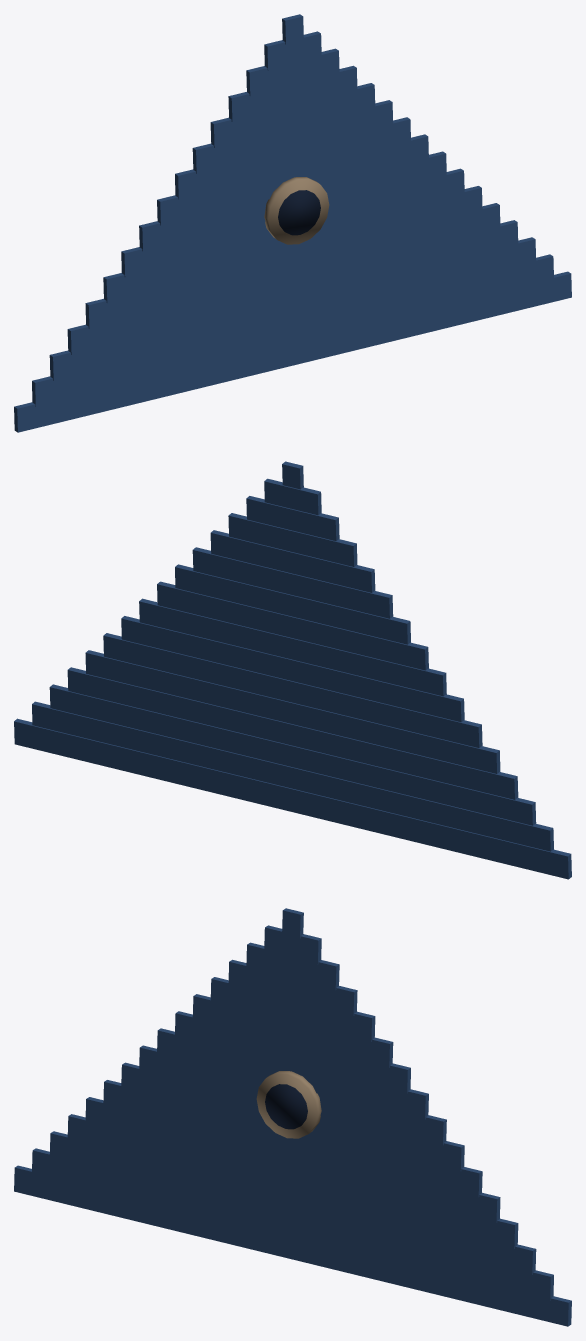
Rendered from kit_clapboard_gable_w3.glb.
The picture shows the model from 3 angles, top to bottom: view 1: azimuth 30°, elevation 25°; view 2: azimuth 150°, elevation 25°; view 3: azimuth 330°, elevation 25°; orthographic projection.
Parts seen in each view (by area): view 1: kit_clapboard_gable_w3; view 2: kit_clapboard_gable_w3; view 3: kit_clapboard_gable_w3.
Boxes of the visible parts, x1,y1,x2,y2 form: kit_clapboard_gable_w3: (14,14,571,432); kit_clapboard_gable_w3: (14,461,571,879); kit_clapboard_gable_w3: (14,908,571,1326).
Size of the model in its own units: 2.91 by 1.74 by 0.0821.
